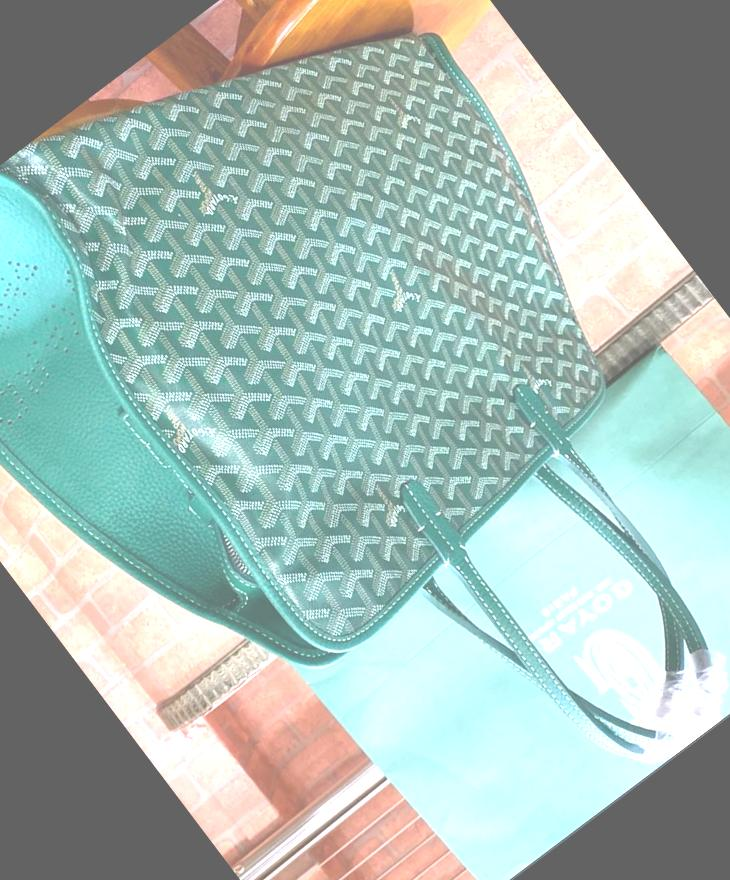GOYARD: (0, 0, 683, 654)
